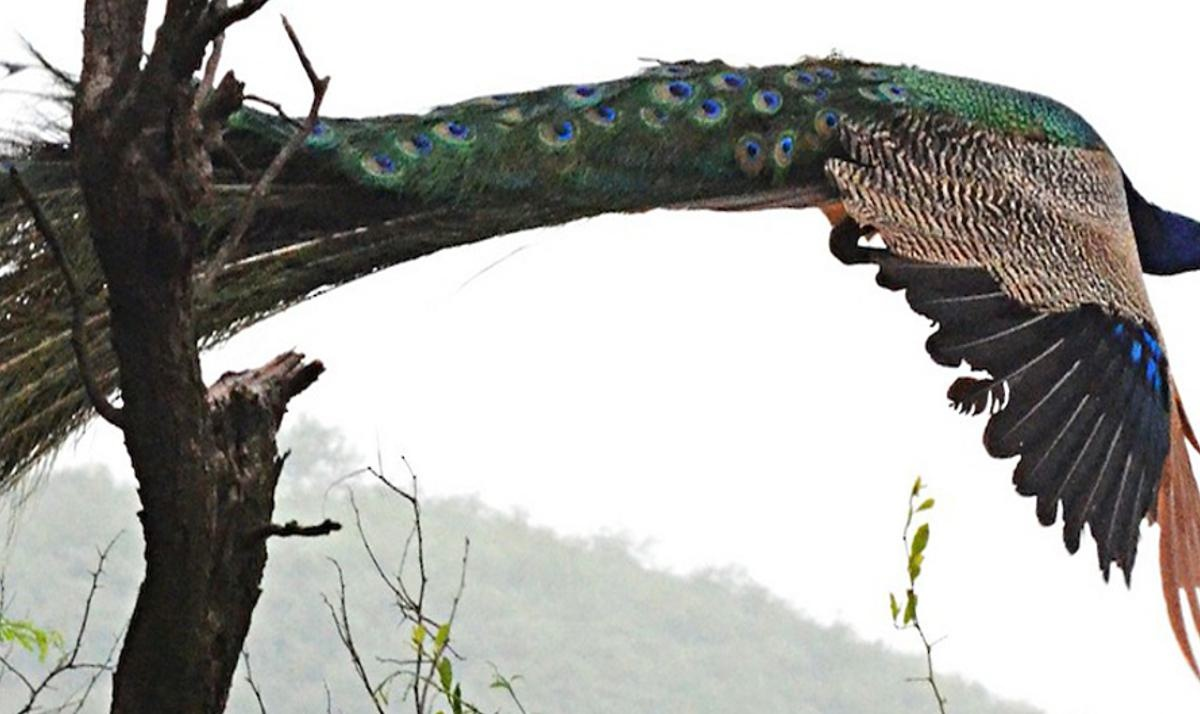peacock: (297, 81, 1198, 468)
